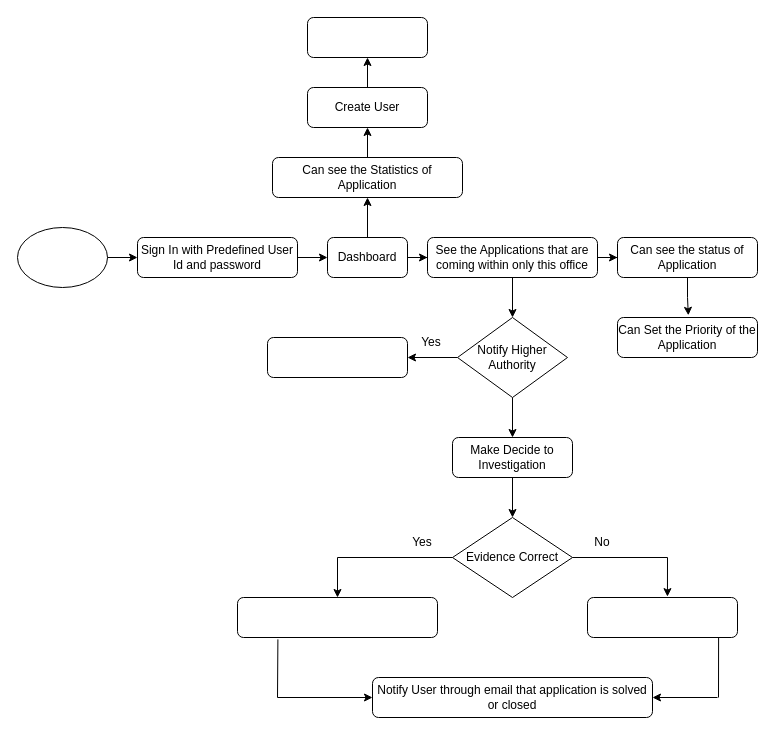
The diagram is 775 pixels wide and 735 high, and some of its shapes have lost their labels. Here are the shapes that lost their labels. From the top down, the centre of each, then its label:
At pixel 367 37: "User Management".
At pixel 62 257: "Office Specific Admin".
At pixel 337 357: "Send the Application to Super Admin".
At pixel 337 617: "Take Necessary Steps for the Application".
At pixel 662 617: "Closed the Application".
